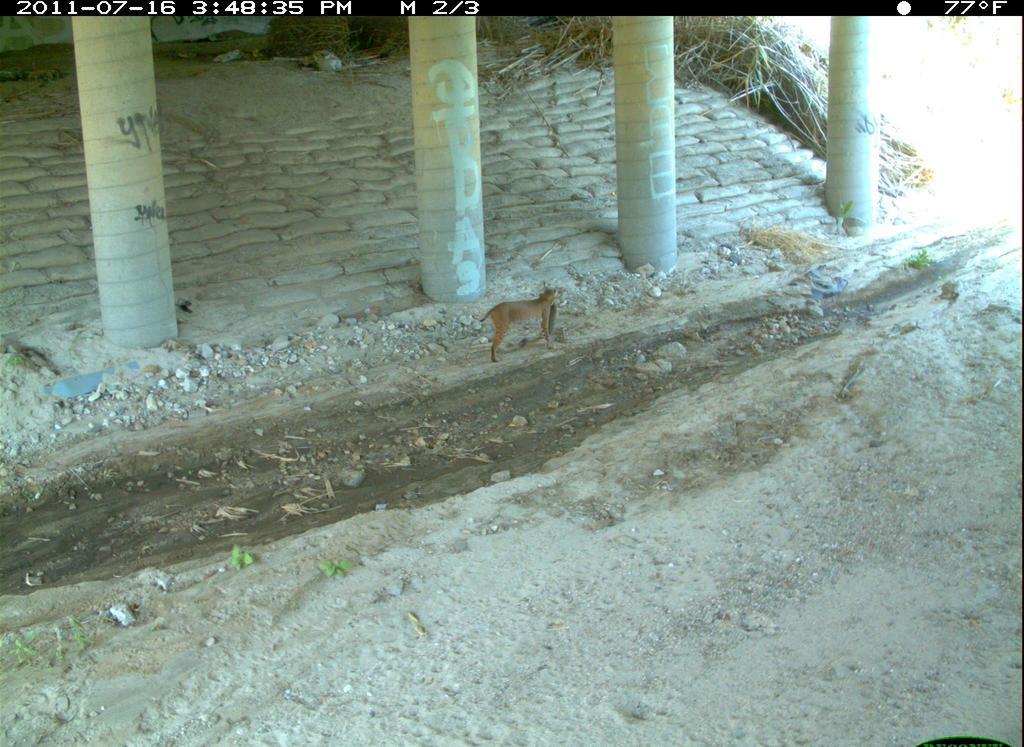bobcat: (951, 559, 1024, 735)
